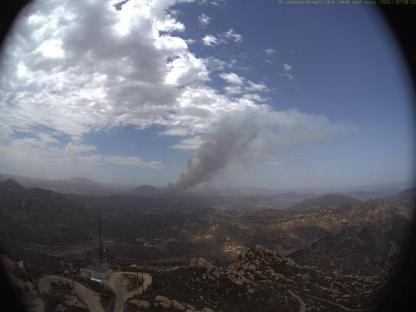smoke: (149, 102, 351, 198)
